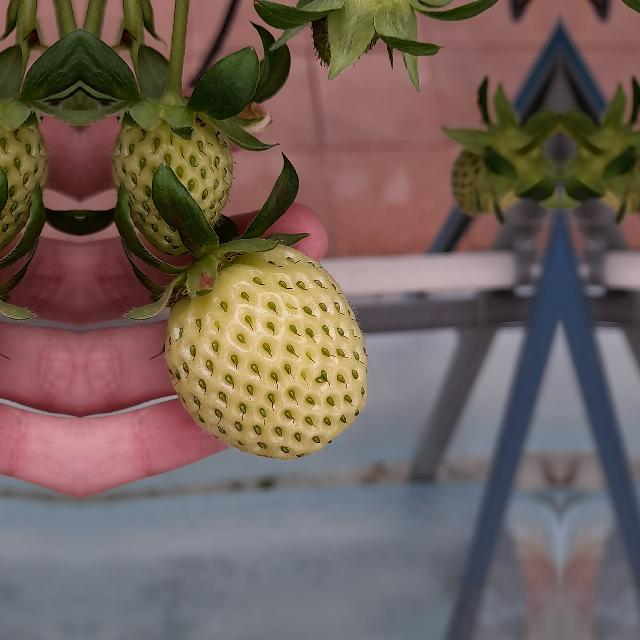Health_25: (164, 244, 368, 460), (115, 104, 239, 252), (0, 104, 45, 252)
